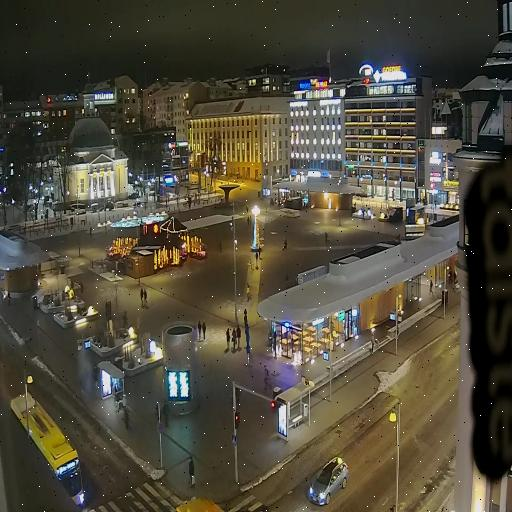Bus: (11, 384, 84, 506)
